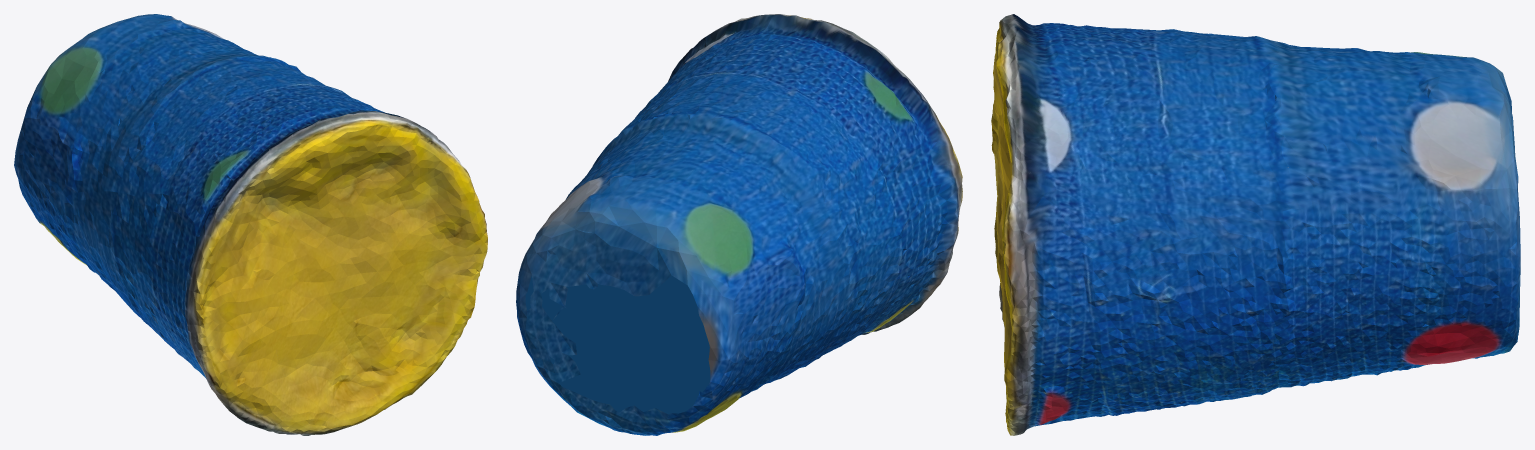
Rendered from water_cup.obj.
The picture shows the model from 3 angles, left to right: view 1: azimuth 30°, elevation 25°; view 2: azimuth 150°, elevation 25°; view 3: azimuth 270°, elevation 25°; orthographic projection. The views are drawn at different scales.
Size of the model in its own units: 0.0828 by 0.0823 by 0.1037.
1 material, 1 textured.
